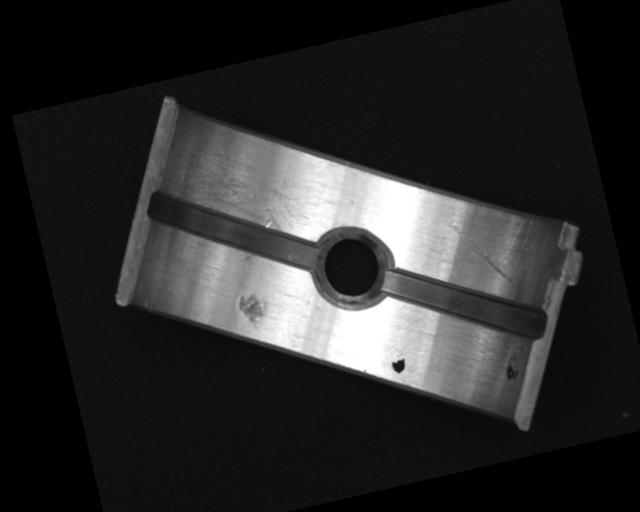blot: (503, 355, 521, 383), (389, 352, 407, 375)
bruise: (235, 290, 269, 333)
gap: (144, 160, 321, 303), (379, 238, 550, 371)
hole: (306, 221, 398, 318)
nick: (447, 209, 516, 299)
scratch: (176, 135, 309, 264)
